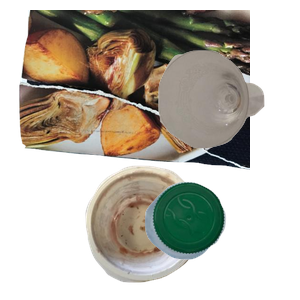glass: (156, 48, 300, 189)
paper: (16, 10, 256, 172)
plastic: (142, 179, 300, 300)
trash: (83, 163, 276, 300)
